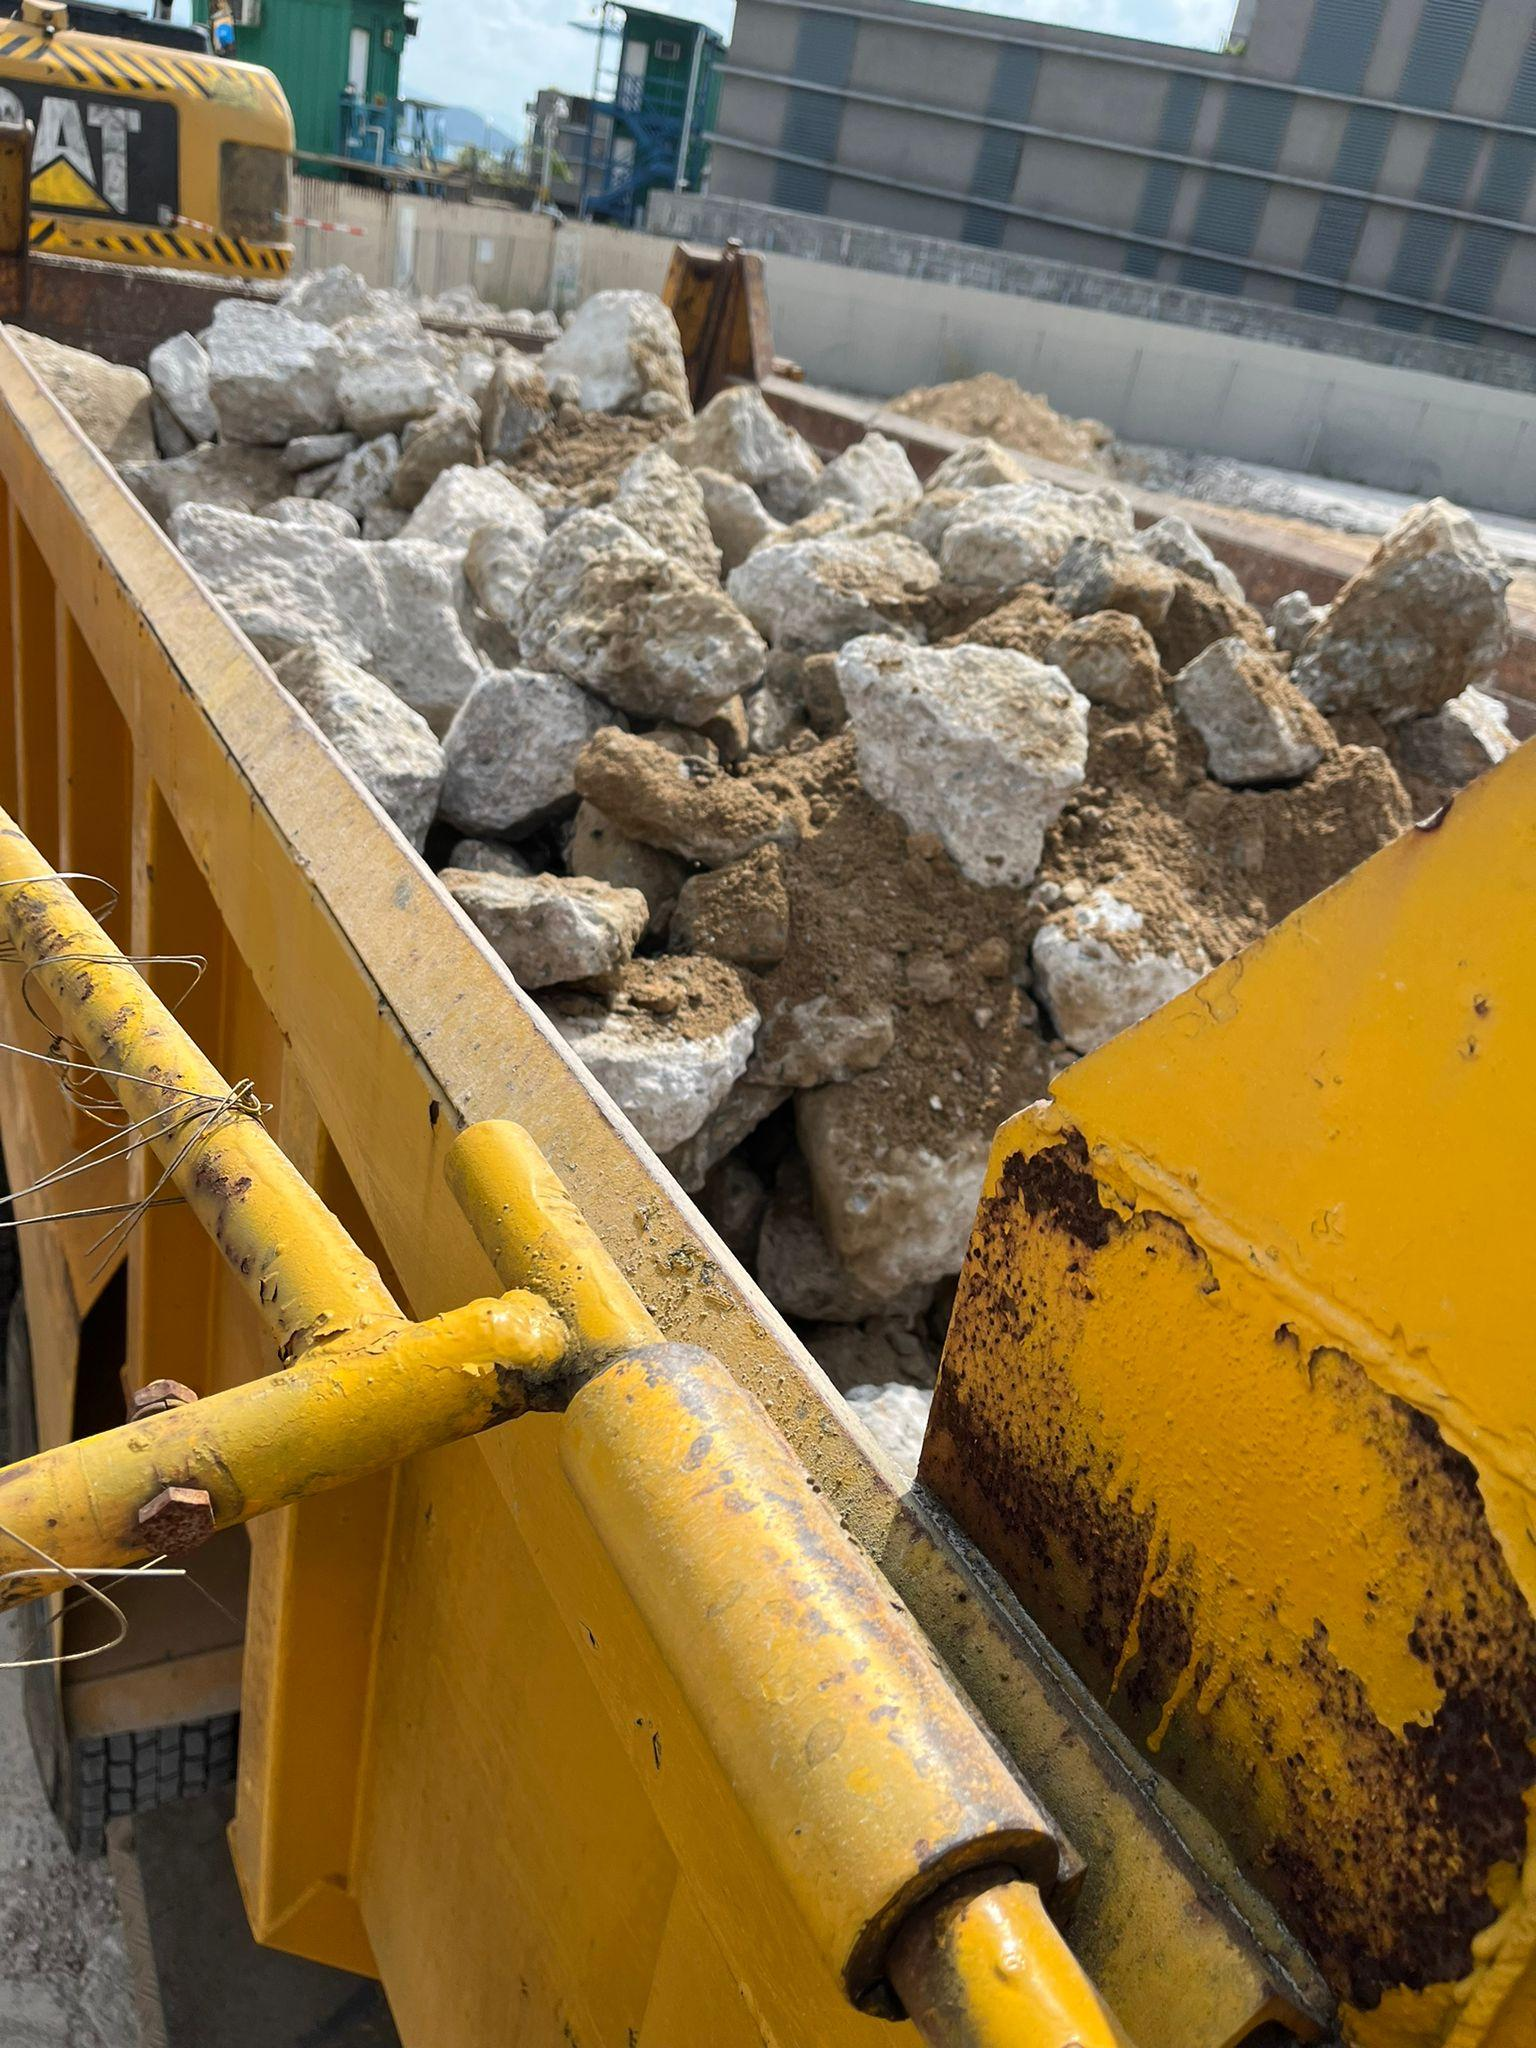dry: (23, 277, 1501, 1450)
